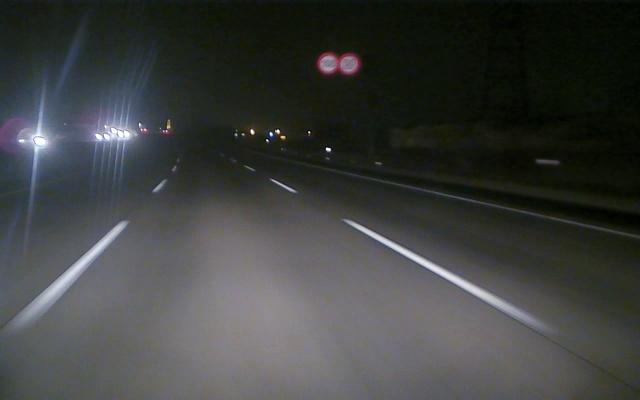lane: (278, 181, 564, 336), (4, 179, 167, 341), (370, 177, 640, 239)
